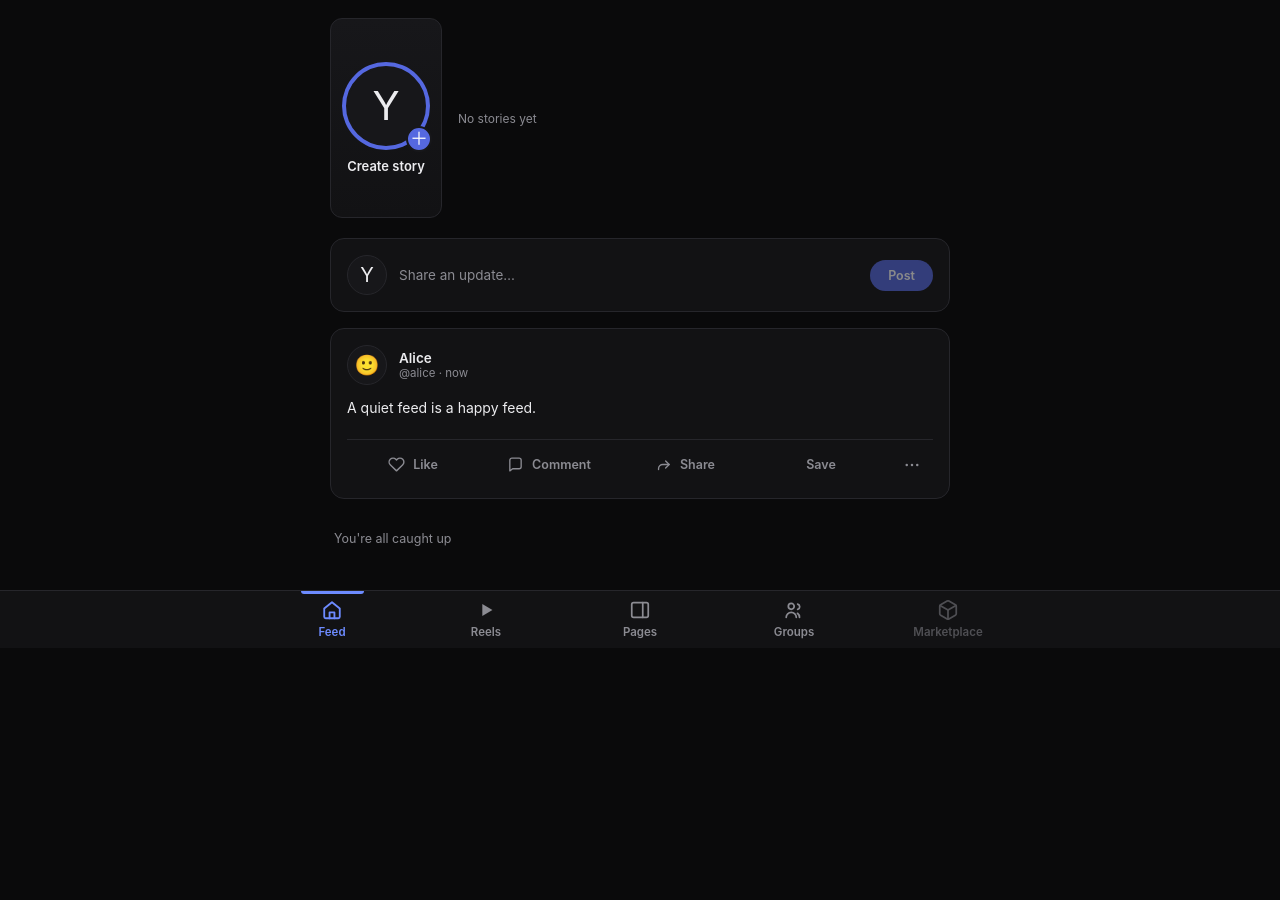
it: FeedView action hierarchy › reveals rare/destructive actions only inside the More-options menu
The width and height of the screenshot is (1280, 900).
Expected: the text "A quiet feed is a happy feed." is shown, x1=347 y1=399 x2=536 y2=416
Click the button named "More options" at (912, 465), box x1=891 y1=448 x2=933 y2=482
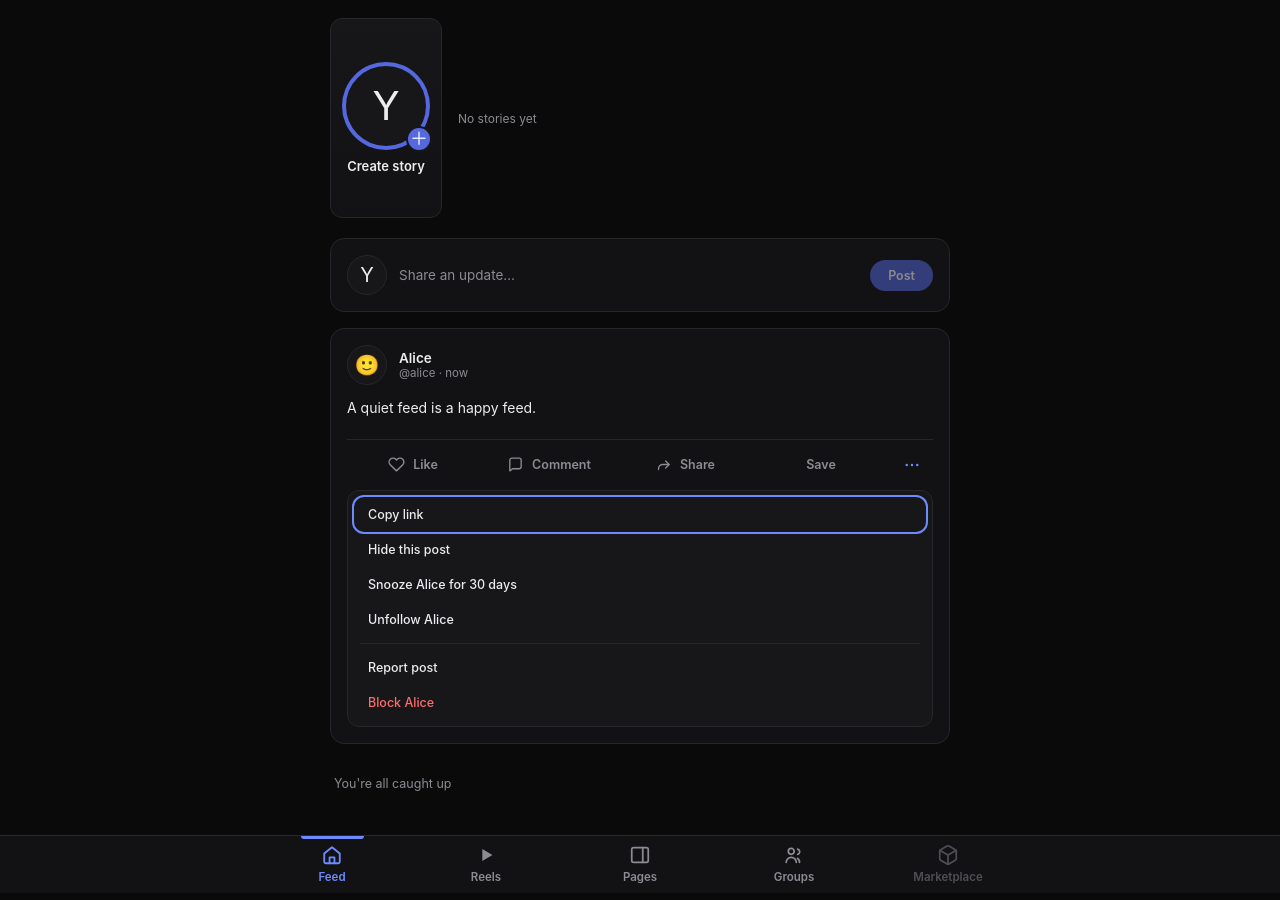
Now the menu item "Report post" is shown, box x1=356 y1=652 x2=924 y2=683
Now the menu item "Block Alice" is shown, box x1=356 y1=687 x2=924 y2=718
Now the menu item "Hide this post" is shown, box x1=356 y1=534 x2=924 y2=565
